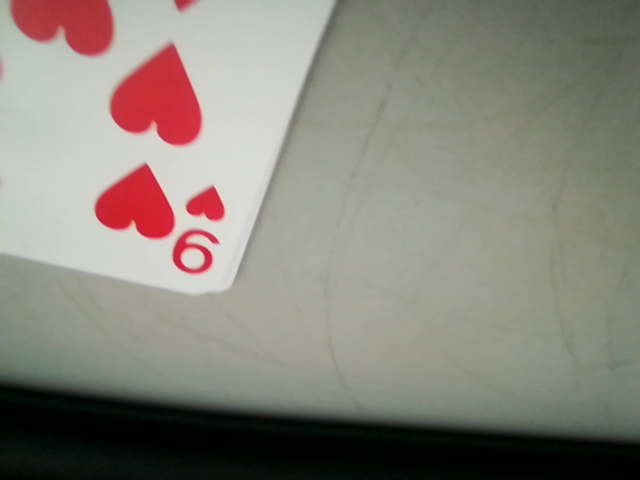hx 9: (172, 181, 227, 276)
